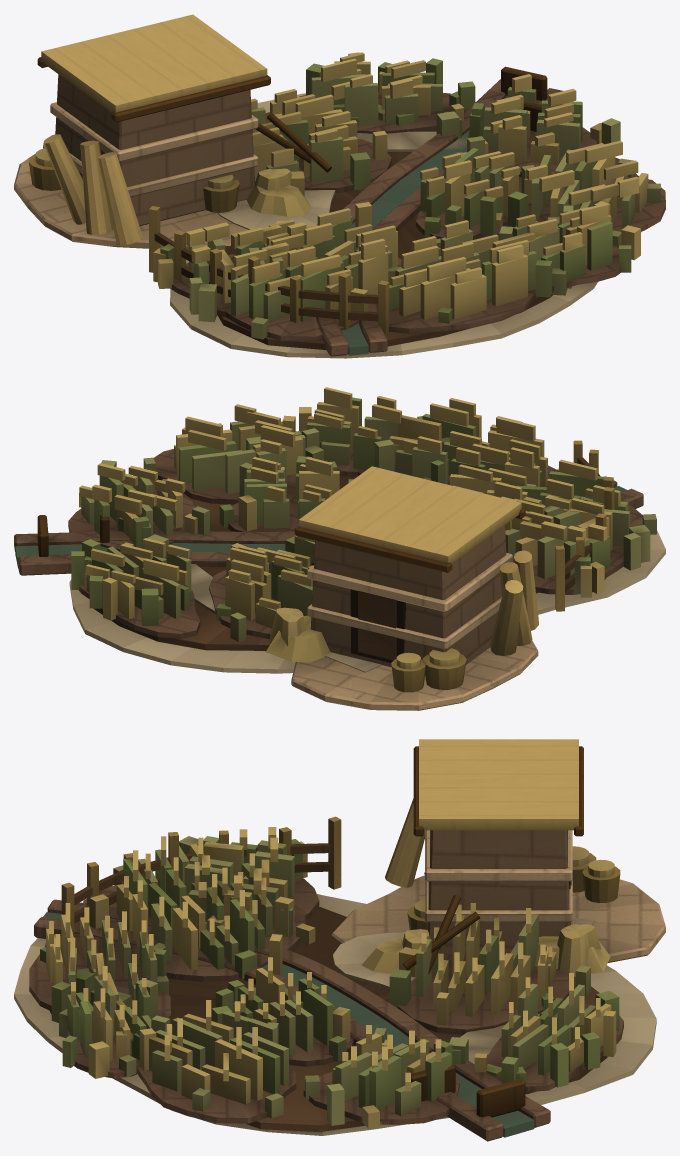
Rendered from emmer_field.glb.
3 views of the same model, one above another, from view 1: azimuth 30°, elevation 25°; view 2: azimuth 150°, elevation 25°; view 3: azimuth 270°, elevation 25° (orthographic). The views are drawn at different scales.
Visible parts, largest first — view 1: emmer_field_crop_amber, emmer_field_thatch_mat, emmer_field_crop_light, emmer_field_crop_green, emmer_field_mud_dark, emmer_field_brick_sand, emmer_field_sand_spit, emmer_field_mud_tan, emmer_field_thatch_dark, emmer_field_wood_dark, emmer_field_soil_dark, emmer_field_channel_water (+1 smaller); view 2: emmer_field_crop_amber, emmer_field_crop_light, emmer_field_thatch_mat, emmer_field_mud_tan, emmer_field_mud_dark, emmer_field_brick_sand, emmer_field_crop_green, emmer_field_sand_spit, emmer_field_thatch_dark, emmer_field_soil_dark, emmer_field_wood_dark, emmer_field_interior_warm (+2 smaller); view 3: emmer_field_crop_amber, emmer_field_crop_light, emmer_field_mud_dark, emmer_field_crop_green, emmer_field_thatch_mat, emmer_field_sand_spit, emmer_field_mud_tan, emmer_field_brick_sand, emmer_field_soil_dark, emmer_field_wood_dark, emmer_field_thatch_dark, emmer_field_channel_water (+1 smaller).
Part boxes in pixels (box(x1,y1,x2,y2)): emmer_field_crop_amber: box(35, 52, 648, 322); emmer_field_thatch_mat: box(41, 14, 267, 245); emmer_field_crop_light: box(189, 74, 660, 339); emmer_field_crop_green: box(160, 58, 631, 323); emmer_field_mud_dark: box(170, 79, 665, 356); emmer_field_brick_sand: box(55, 74, 254, 226); emmer_field_sand_spit: box(170, 93, 641, 358); emmer_field_mud_tan: box(14, 102, 258, 250); emmer_field_thatch_dark: box(29, 143, 389, 334); emmer_field_wood_dark: box(37, 57, 547, 172); emmer_field_soil_dark: box(217, 112, 638, 349); emmer_field_channel_water: box(341, 96, 507, 355); emmer_field_crop_amber: box(79, 387, 620, 669); emmer_field_crop_light: box(81, 416, 656, 641); emmer_field_thatch_mat: box(298, 466, 538, 655); emmer_field_mud_tan: box(291, 553, 538, 710); emmer_field_mud_dark: box(14, 446, 643, 638); emmer_field_brick_sand: box(310, 525, 506, 675); emmer_field_crop_green: box(71, 397, 626, 625); emmer_field_sand_spit: box(69, 509, 665, 673); emmer_field_thatch_dark: box(391, 440, 614, 692); emmer_field_soil_dark: box(94, 476, 538, 651); emmer_field_wood_dark: box(37, 508, 525, 572); emmer_field_interior_warm: box(358, 590, 396, 660); emmer_field_crop_amber: box(46, 827, 616, 1128); emmer_field_crop_light: box(59, 836, 595, 1125); emmer_field_mud_dark: box(29, 877, 623, 1141); emmer_field_crop_green: box(40, 839, 619, 1110); emmer_field_thatch_mat: box(385, 739, 578, 887); emmer_field_sand_spit: box(14, 894, 656, 1135); emmer_field_mud_tan: box(331, 830, 665, 962); emmer_field_brick_sand: box(427, 830, 570, 953); emmer_field_soil_dark: box(45, 906, 607, 1131); emmer_field_wood_dark: box(403, 746, 583, 1117); emmer_field_thatch_dark: box(61, 816, 620, 933); emmer_field_channel_water: box(43, 912, 534, 1137).
Size of the model in its own units: 3.14 by 0.834 by 3.18.
15 materials, 11 textured.
